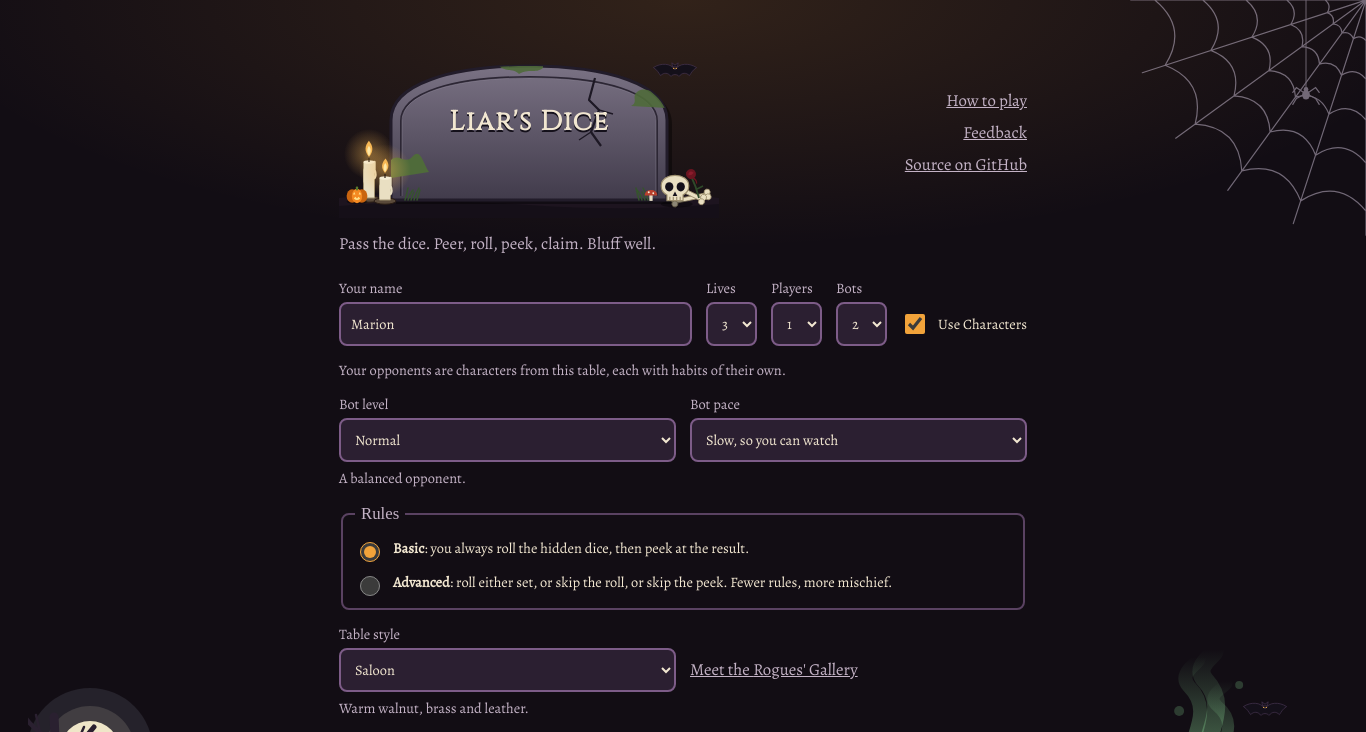
Test case: the links under the title › still opens the How to play page from the same stack
Click the button "How to play".
click(987, 101)  # box [946,85,1027,117]
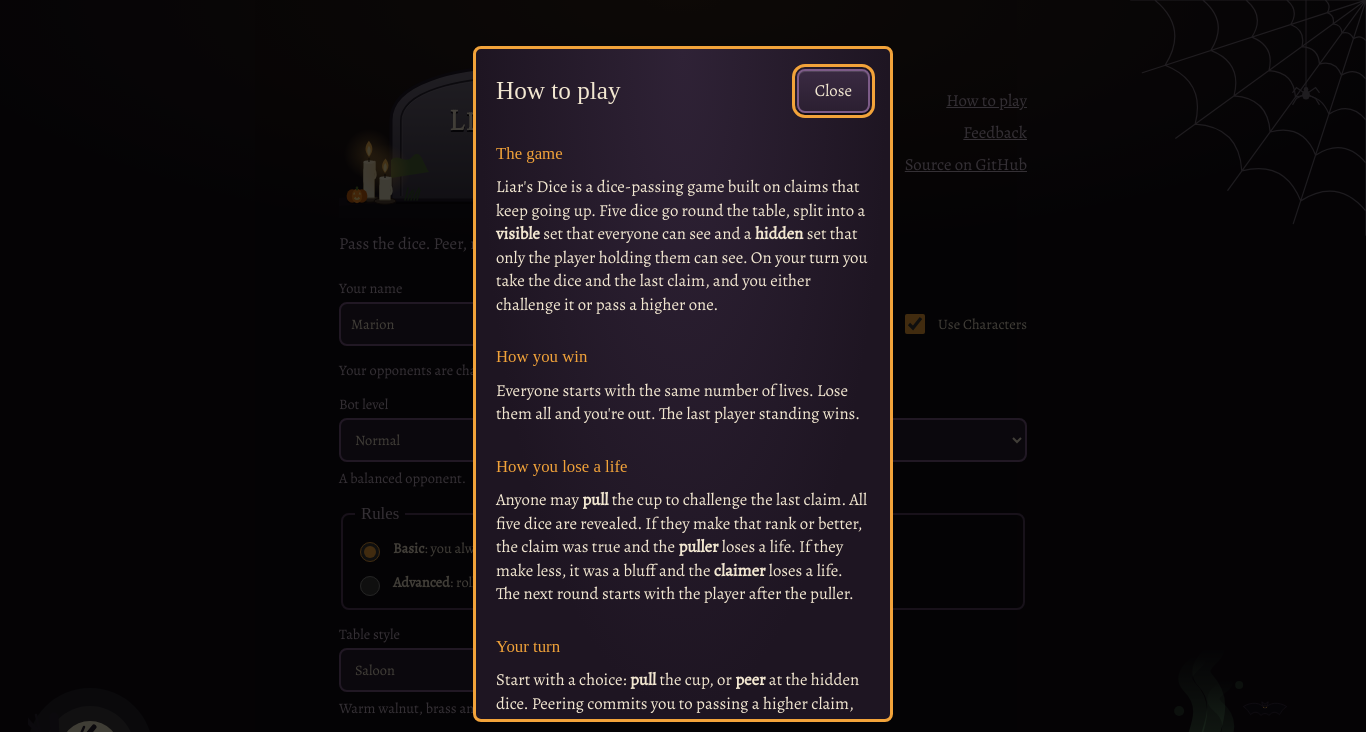
Result: the dialog "How to play" is shown at [473,46,893,722]
